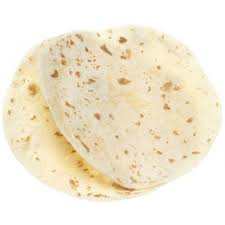rotti: (6, 26, 215, 199)
